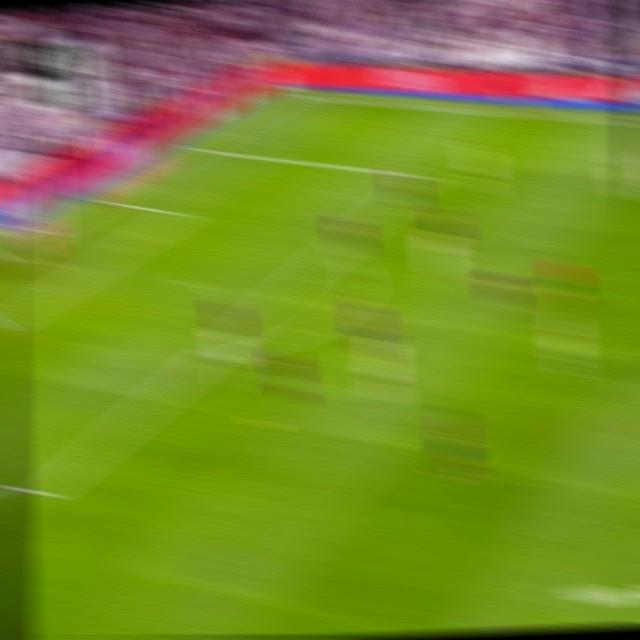bigarea_bottom_inner: (30, 475, 60, 510)
bigarea_top_inner: (410, 166, 434, 184)
bigarea_top_outter: (184, 140, 208, 155)
bottom_arc_area_intersection: (199, 343, 224, 363)
corner: (274, 87, 300, 101)
smallarea_top_inner: (167, 204, 191, 222)
top_arc_area_intersection: (325, 235, 352, 257)
